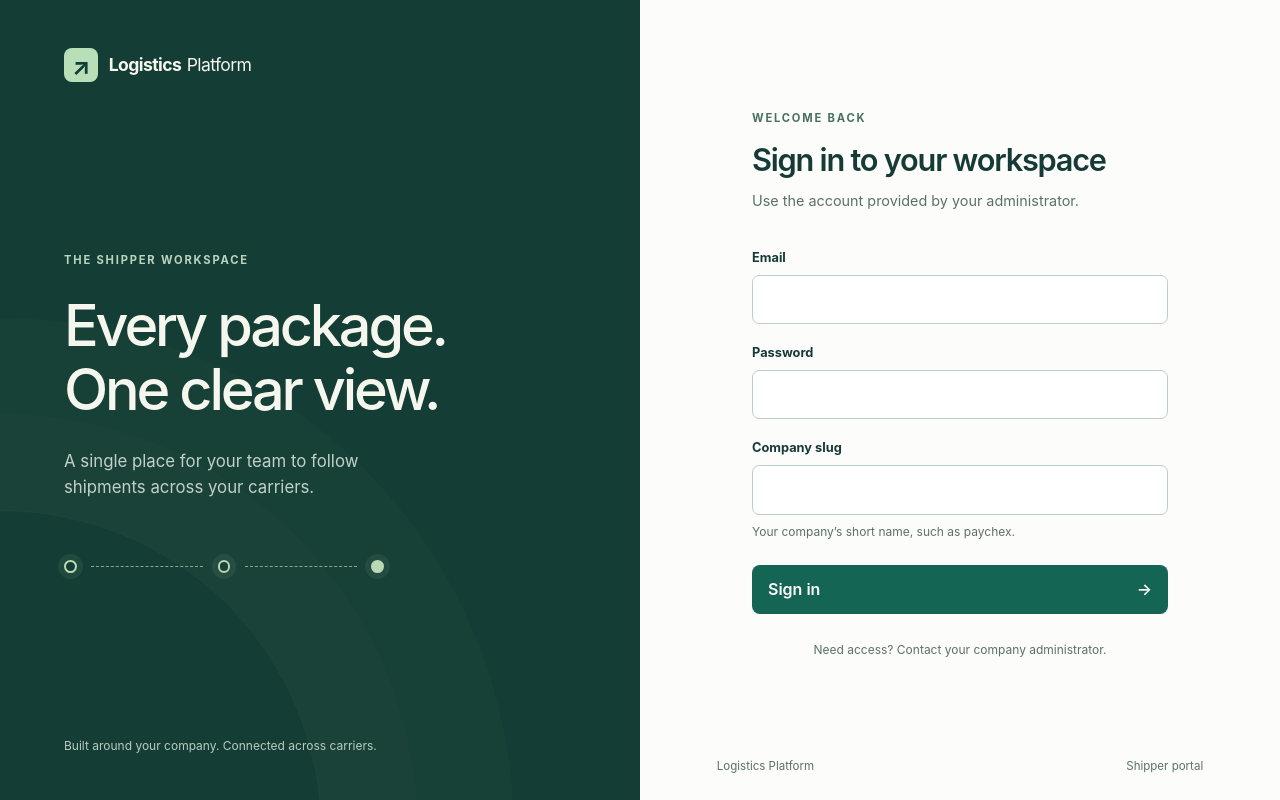
Test: logs in, checks session, signs out and stores no browser token
This screenshot has width=1280, height=800.
Expected: the button "Sign in →" is shown, [752, 565, 1168, 614]
In the field labelled "Email": [960, 299] box [752, 275, 1168, 324], type "admin@paychex.example"
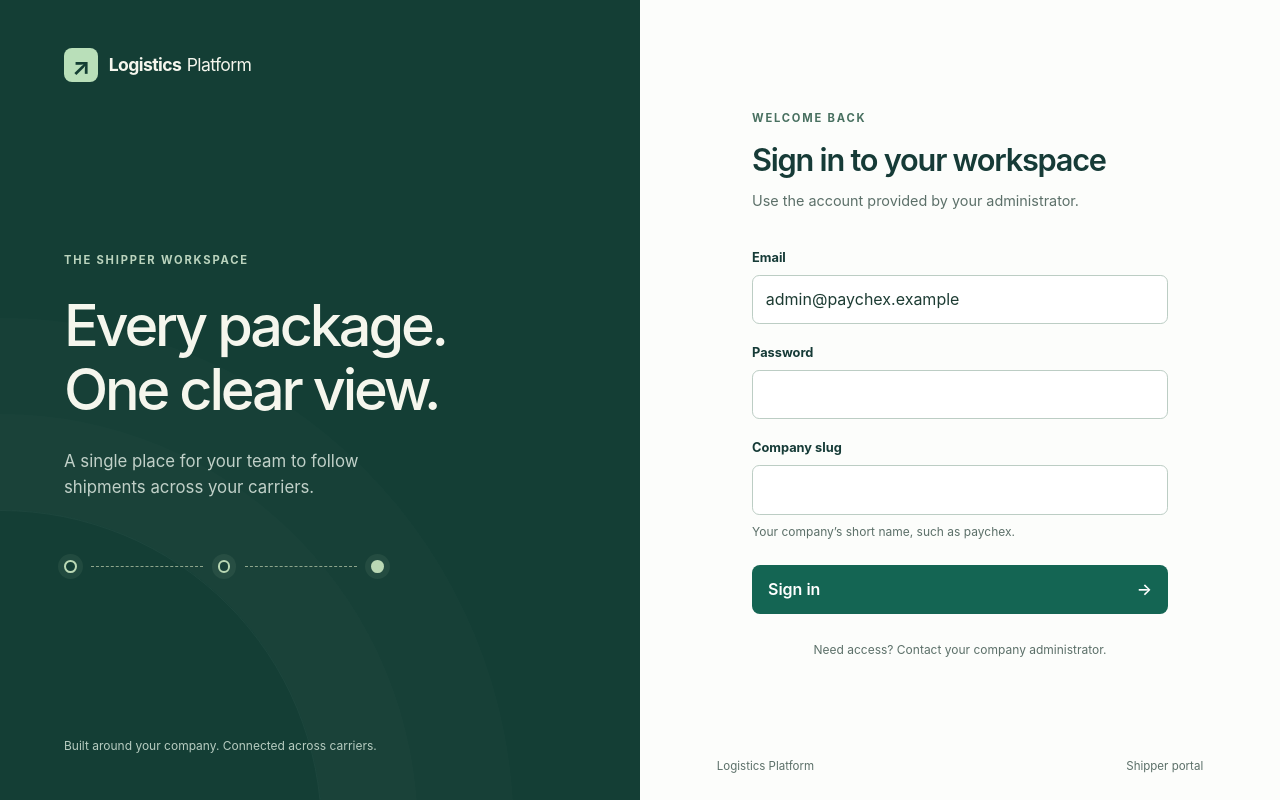
In the password field labelled "Password": [960, 395] box [752, 370, 1168, 419], type "synthetic test password"
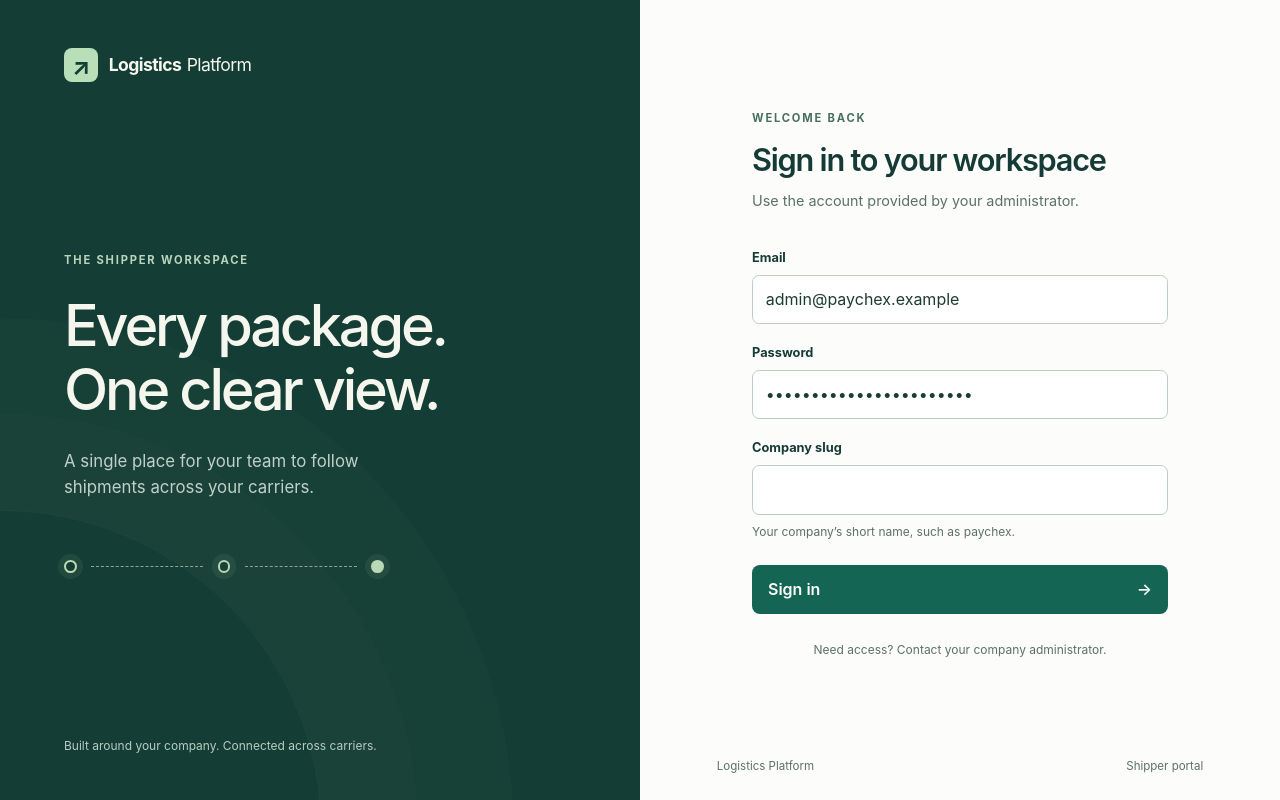
In the field labelled "Company slug": [960, 490] box [752, 465, 1168, 515], type "paychex"
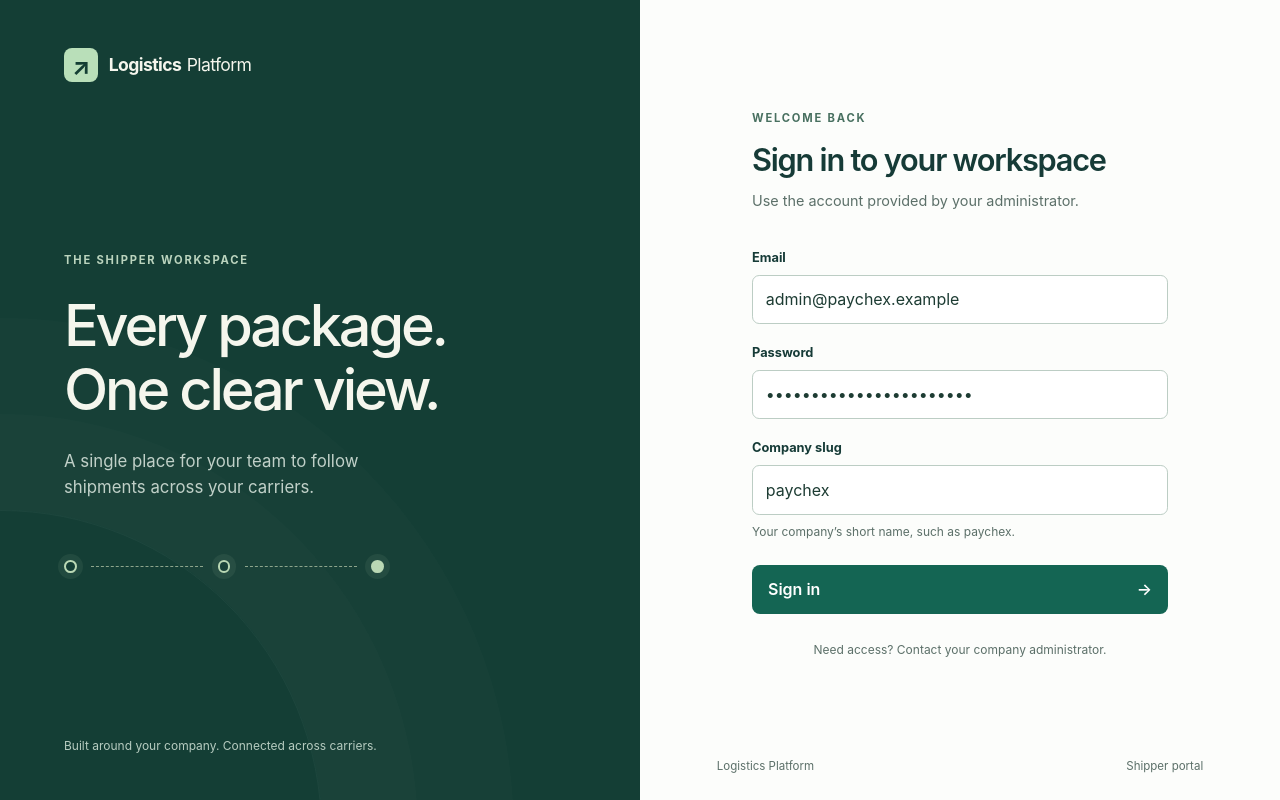
Click the button "Sign in →": [794, 589] box [752, 565, 1168, 614]
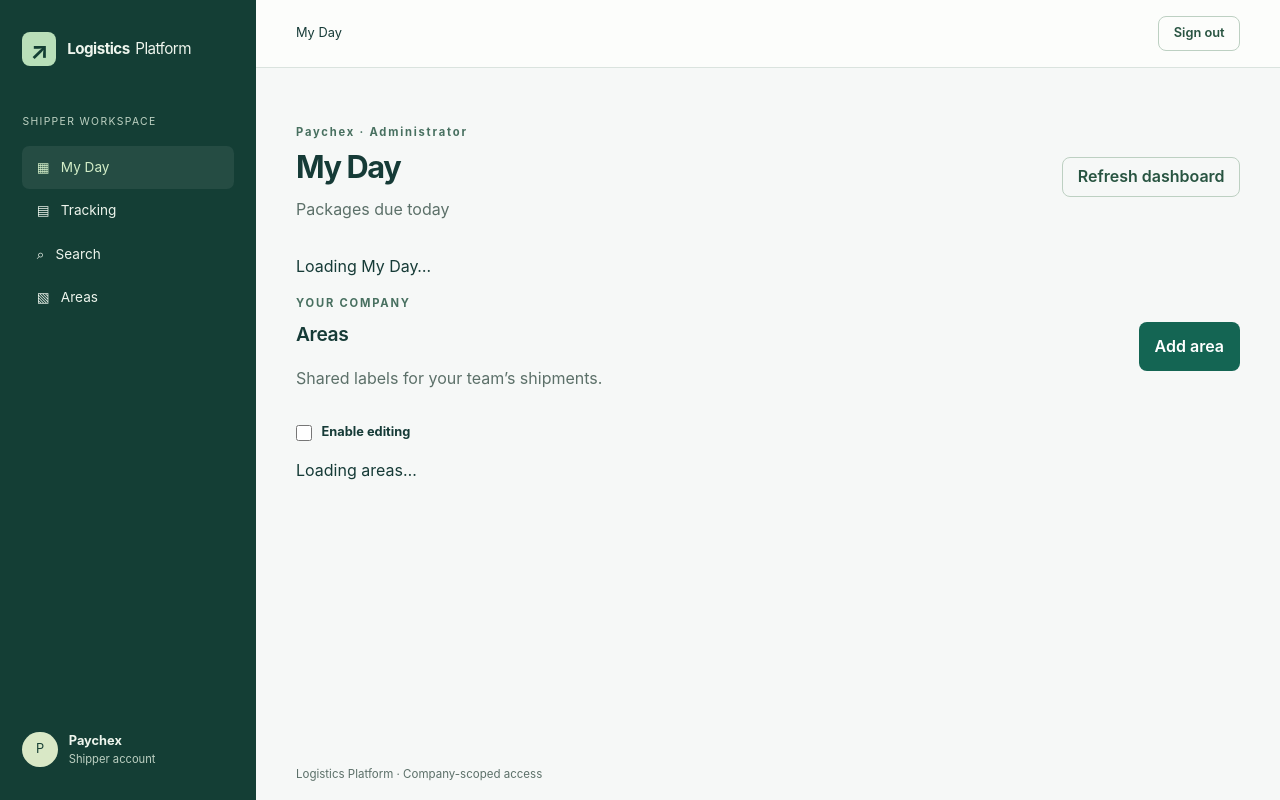
Expected: the text "Administrator" is shown, [369, 125, 468, 139]
Result: the heading "My Day" is shown at [296, 148, 400, 185]
Result: the button "Add area" is shown at [1139, 322, 1240, 371]
Click the button "Sign out": [1199, 33] box [1158, 16, 1240, 51]
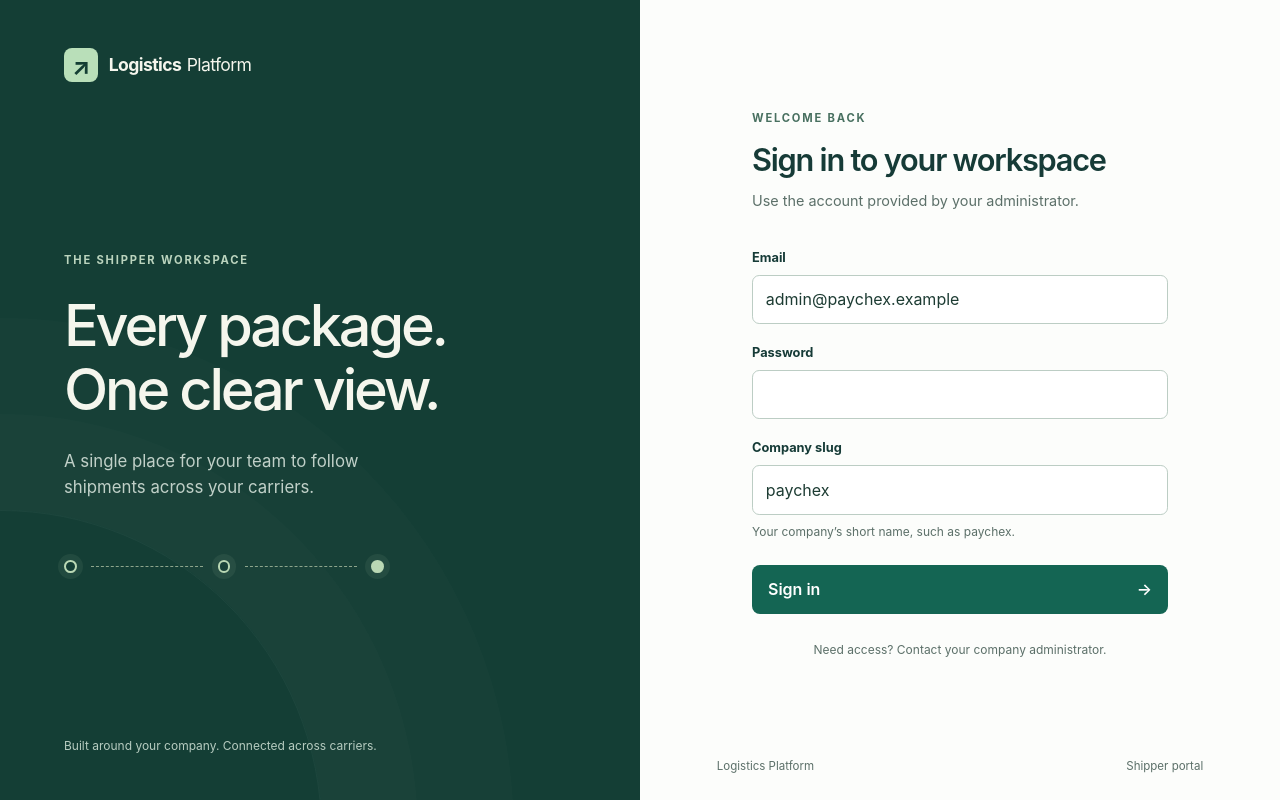
Expected: the password field labelled "Password" is empty, [752, 370, 1168, 419]
Result: the button "Sign in →" is shown at [752, 565, 1168, 614]
